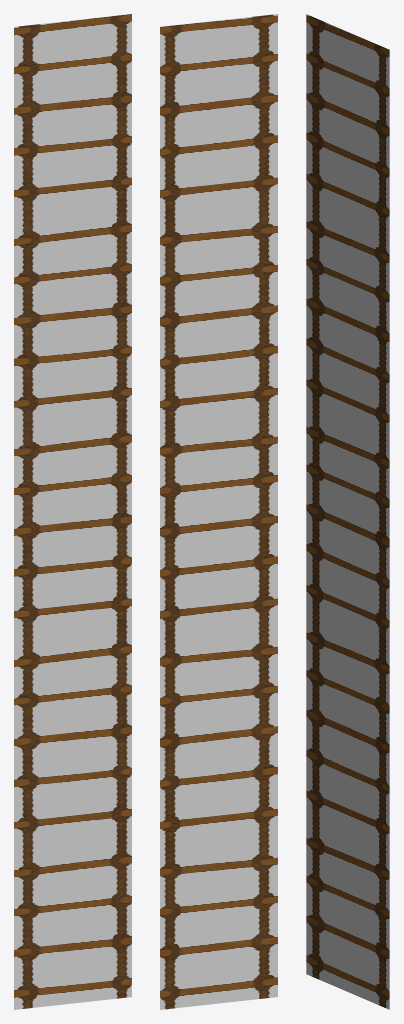
File: ladder_climb.glb
The picture shows the model from 3 angles, left to right: view 1: azimuth 30°, elevation 25°; view 2: azimuth 210°, elevation 25°; view 3: azimuth 330°, elevation 25°; orthographic projection. The views are drawn at different scales.
Parts seen in each view (by area): view 1: ladder_climb.001; view 2: ladder_climb.001; view 3: ladder_climb.001.
Part boxes in pixels (x1=…): ladder_climb.001: x1=14, y1=14, x2=131, y2=1009; ladder_climb.001: x1=160, y1=14, x2=277, y2=1009; ladder_climb.001: x1=306, y1=14, x2=389, y2=1009.
Size of the model in its own units: 1.21 by 11.21 by 0.3351.
Materials: 1 (1 with a texture image).
